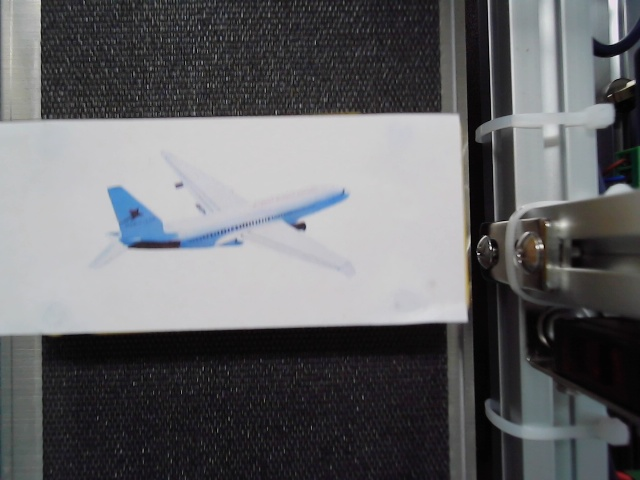airplane: (83, 150, 356, 283)
